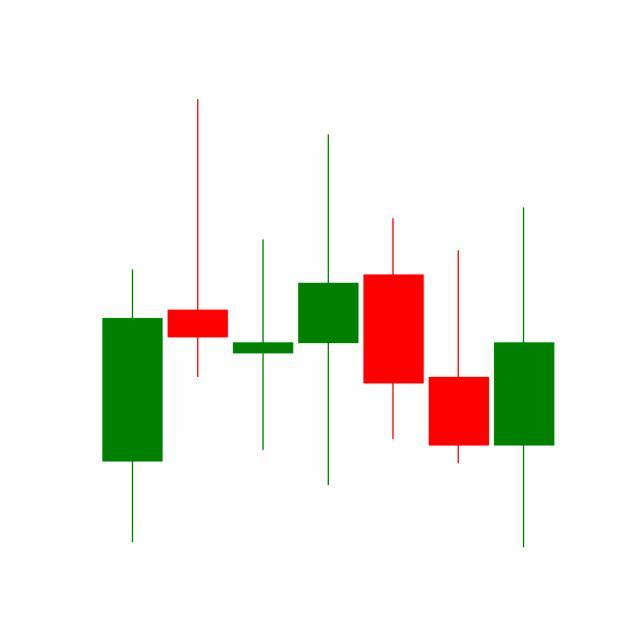Three Outside Up-Down: (295, 131, 492, 490)
